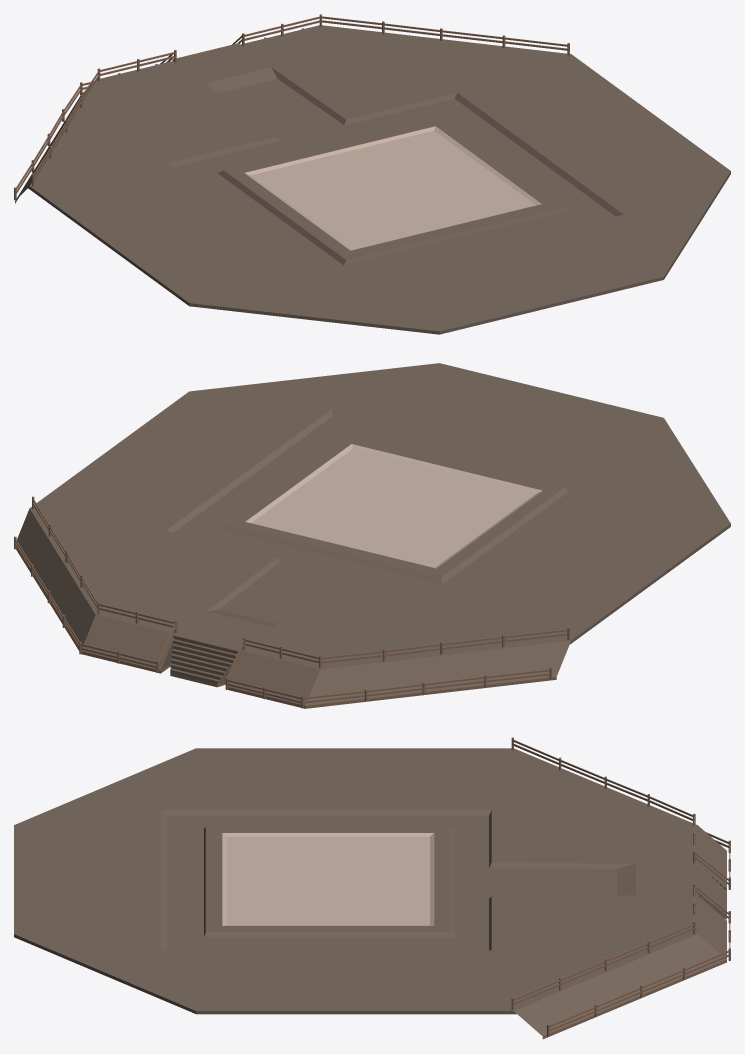
Rendered from Dojo_floor.fbx.
3 views of the same model, one above another, from view 1: azimuth 30°, elevation 25°; view 2: azimuth 150°, elevation 25°; view 3: azimuth 270°, elevation 25° (orthographic).
Visible parts, largest first — view 1: Dojo_floor; view 2: Dojo_floor; view 3: Dojo_floor.
Part boxes in pixels (x1,y1,x2,y2): Dojo_floor: (14, 14, 730, 334); Dojo_floor: (14, 363, 730, 708); Dojo_floor: (14, 737, 730, 1039).
Bounding box in the file's own units: 180 × 12.84 × 208.
